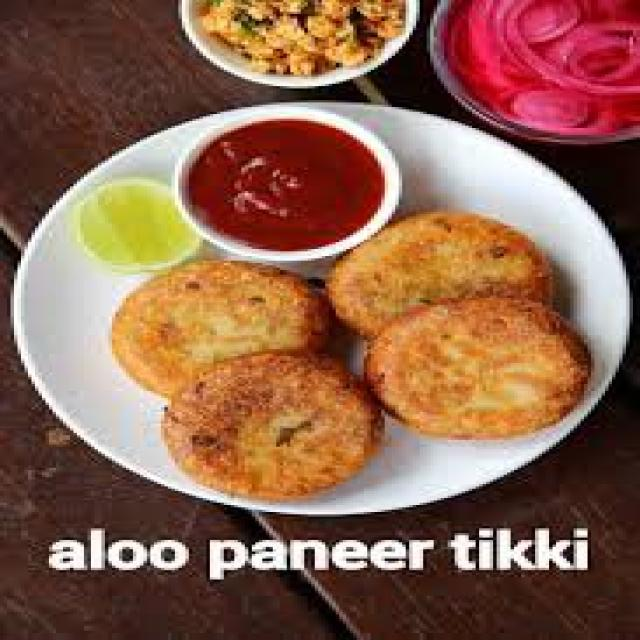Aloo Tikki: (164, 351, 386, 498), (367, 295, 593, 437), (115, 264, 339, 403), (332, 210, 569, 339)
